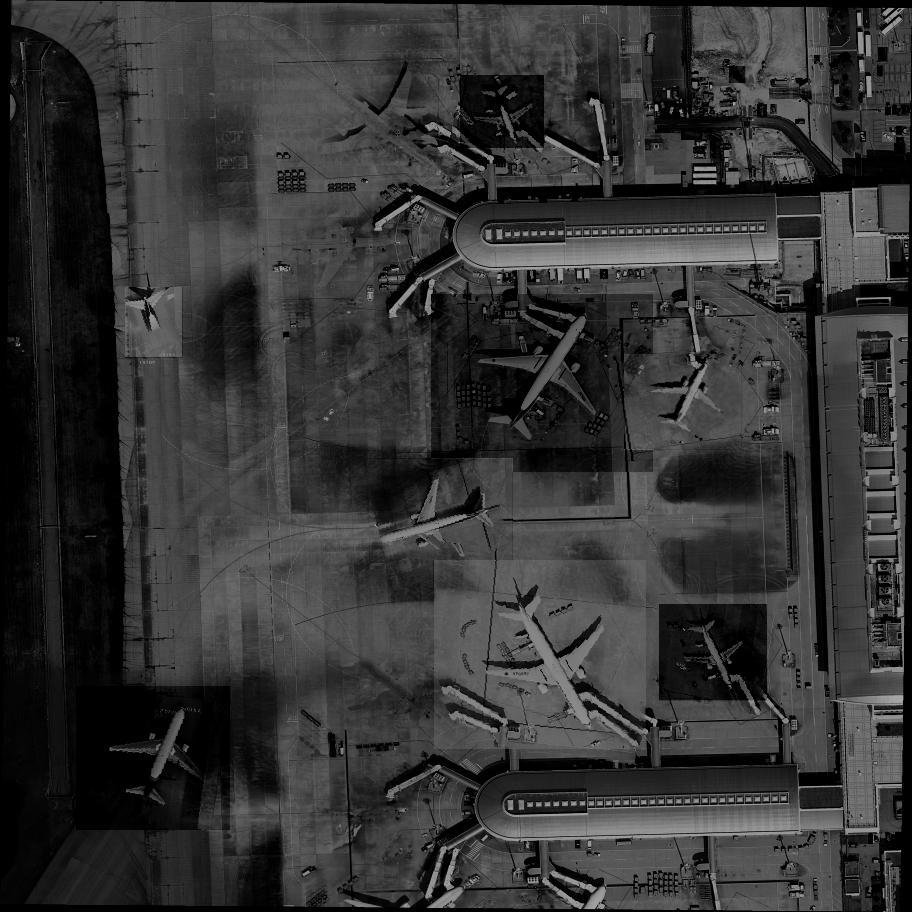large-vehicle: (729, 65, 746, 84), (681, 129, 703, 141), (644, 35, 655, 55), (757, 104, 767, 118), (770, 80, 788, 87), (548, 269, 556, 283), (527, 271, 536, 283), (865, 888, 874, 899), (694, 152, 707, 159), (504, 273, 513, 283), (668, 106, 676, 117), (659, 102, 668, 111), (462, 810, 473, 817), (598, 759, 606, 768), (473, 272, 484, 278), (693, 147, 704, 153), (613, 760, 620, 769), (525, 842, 531, 851), (695, 141, 708, 145), (497, 274, 502, 284), (770, 755, 776, 763), (588, 841, 593, 850), (673, 87, 678, 96), (588, 762, 594, 769), (641, 271, 646, 278), (465, 801, 473, 805), (576, 840, 580, 848), (540, 762, 544, 769), (534, 764, 538, 769), (529, 764, 533, 769)
plane: (431, 259, 653, 493), (434, 538, 646, 764), (76, 681, 235, 830), (370, 456, 514, 590), (625, 349, 742, 455), (660, 595, 767, 708), (461, 74, 545, 152), (126, 288, 185, 360)
small-vehicle: (878, 47, 890, 62), (894, 142, 907, 155), (882, 132, 895, 143), (600, 269, 609, 281), (895, 832, 904, 843), (818, 63, 827, 73), (858, 92, 865, 104), (633, 270, 641, 280), (896, 137, 905, 145), (902, 127, 910, 136), (539, 196, 547, 205), (891, 833, 898, 843), (874, 834, 881, 844), (858, 81, 865, 91), (885, 833, 891, 844), (795, 119, 806, 125), (615, 272, 622, 281), (622, 271, 629, 280), (770, 105, 777, 114), (878, 66, 884, 76), (849, 842, 858, 848), (902, 106, 908, 115), (861, 132, 866, 142), (729, 755, 736, 762), (628, 269, 634, 277), (814, 56, 820, 64), (897, 127, 903, 135), (572, 193, 578, 201), (868, 834, 873, 843), (667, 90, 672, 99), (885, 108, 891, 115), (505, 196, 511, 203), (892, 106, 897, 114), (890, 127, 896, 133), (679, 109, 684, 116), (898, 108, 902, 116), (499, 195, 503, 203), (675, 101, 679, 107), (680, 100, 684, 105)
